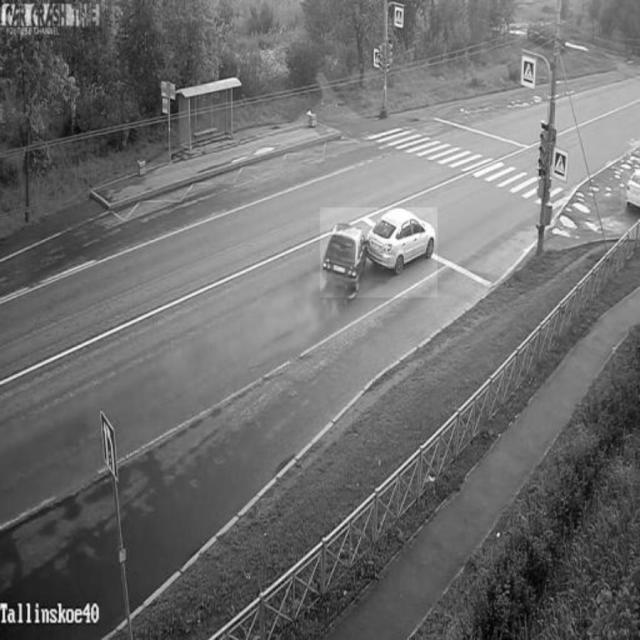accident: (320, 208, 438, 298)
vehicle: (621, 168, 640, 209)
